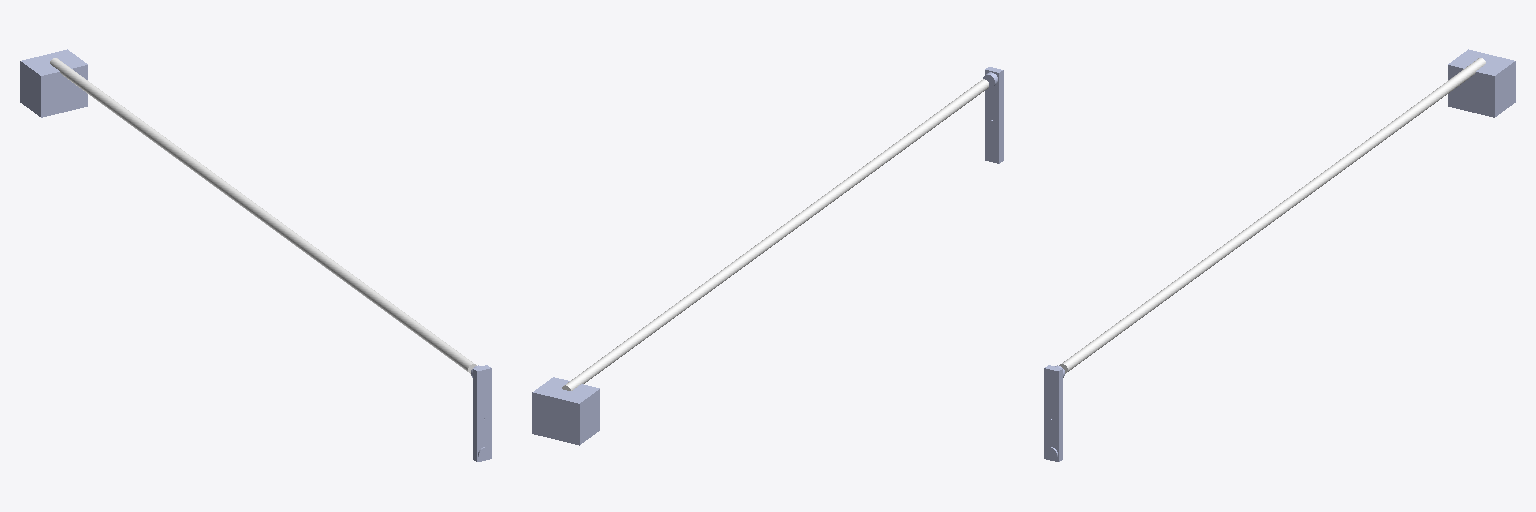
URDF robot description (monopod):
<?xml version="1.0" encoding="utf-8"?>
<!-- This URDF was automatically created by SolidWorks to URDF Exporter! Originally created by [author] ([email redacted])
     Commit Version: 1.6.0-1-g15f4949  Build Version: 1.6.7594.29634
     For more information, please see http://wiki.ros.org/sw_urdf_exporter -->
<robot name="monopod">
  <link name="world" />

<!-- Central pivot link -->

  <link name="central_pivot_link">
    <inertial>
      <origin
        xyz="0 0 80E-3"
        rpy="0 0 0" />
      <mass
        value="2.424" />
      <inertia
        ixx="20310.796E-6"
        ixy="-2.157E-6"
        ixz="-67.637E-6"
        iyy="21642.88E-6"
        iyz="-19.042E-6"
        izz="8571.224E-6" />
    </inertial>
    <visual>
      <origin
        xyz="0 0 0"
        rpy="0 0 0" />
      <geometry>
        <mesh
          filename="package://monopod/meshes/central_pivot.STL" />
      </geometry>
      <material
        name="">
        <color
          rgba="0.792156862745098 0.819607843137255 0.933333333333333 1" />
      </material>
    </visual>
  </link>

<!-- Connect link to world. rotates in yaw -->

  <joint name="planarizer_yaw_joint" type="continuous">
      <origin
        xyz="0 0 0.11"
        rpy="0 3.14159265359 0" />
     <parent link="world"/>
     <child link="central_pivot_link"/>
     <axis xyz="0 0 1" />
     <dynamics
       damping="0.01"
       friction="0.001" />
  </joint>

  <!-- Boom link -->

  <link name="boom_link">
    <inertial>
      <origin xyz="0 -1.0 0" rpy="0 0 0" />
    <mass value="0.12458" />
    <inertia
      ixx="0.023361"
      ixy="0"
      ixz="4.0264E-18"
      iyy="3.5039E-06"
      iyz="-2.189E-18"
      izz="0.023361" />
    </inertial>
    <visual>
      <origin xyz="0 0 0" rpy="0 0 0" />
      <geometry>
        <mesh filename="package://monopod/meshes/boom.STL" />
      </geometry>
      <material name="">
        <color rgba="1 1 1 1" />
      </material>
    </visual>
    <collision>
      <origin xyz="0 0 0" rpy="0 0 0" />
      <geometry>
        <mesh filename="package://monopod/meshes/boom.STL" />
      </geometry>
    </collision>
  </link>

<!-- Boom pitch joint -->

  <joint name="planarizer_pitch_joint" type="continuous">
    <origin xyz="0 0 0" rpy="0 0 0"/>
    <parent link="central_pivot_link" />
    <child link="boom_link" />
    <axis xyz="1 0 0" />
    <dynamics damping="0.01" friction="0.001" />
  </joint>


  <link name="hip_link">
    <inertial>
      <origin
        xyz="-2.016E-3 26.789E-3 18.092E-3"
        rpy="0 0 0" />
      <mass value="0.151" />
      <inertia
        ixx="308.333E-6"
        ixy="4.166E-6"
        ixz="-0.452E-6"
        iyy="222.631E-6"
        iyz="-35.508E-6"
        izz="110.366E-6" />
    </inertial>
    <visual>
      <origin xyz="0 0 0" rpy="0 0 0" />
      <geometry>
        <mesh
          filename="package://monopod/meshes/hip.STL" />
      </geometry>
      <material name="">
        <color rgba="0.792156862745098 0.819607843137255 0.933333333333333 1" />
      </material>
    </visual>
    <collision>
      <origin xyz="0 0 0" rpy="0 0 0" />
      <geometry>
        <mesh filename="package://monopod/meshes/hip.STL" />
      </geometry>
    </collision>
  </link>

<!-- Hip free joint -->

  <joint name="boom_connector_joint" type="continuous">
    <origin xyz="0 -2.01 0" rpy="-1.57 0 -1.57" />
    <parent
      link="boom_link" />
    <child
      link="hip_link" />
    <axis
      xyz="1 0 0" />
    <dynamics
      damping="0.01"
      friction="0.001" />
  </joint>

<!-- Upper leg link -->

  <link name="upper_leg_link">
    <inertial>
      <origin
        xyz="-7.414E-3 -0.013E-3 112.131E-3"
        rpy="3.14159265359 0 0" />
      <!-- <origin
        xyz="-7.414E-3 -0.013E-3 87.869E-3"
        rpy="0 0 0" /> -->
      <mass
        value="0.176" />
      <inertia
        ixx="629.368E-6"
        ixy="-0.003E-6"
        ixz="56.169E-6"
        iyy="627.685E-6"
        iyz="0.082E-6"
        izz="38.329E-6" />
    </inertial>
    <visual>
      <origin
        xyz="0 0 0.2"
        rpy="3.14159265359 0 0" />
      <!-- <origin
        xyz="0 0 0"
        rpy="0 0 0" /> -->
      <geometry>
        <mesh filename="package://monopod/meshes/upper_leg.STL" />
      </geometry>
      <material name="">
        <color rgba="0.79216 0.81961 0.93333 1" />
      </material>
    </visual>
    <collision>
      <origin
        xyz="0 0 0.2"
        rpy="3.14159265359 0 0" />
      <!-- <origin
        xyz="0 0 0"
        rpy="0 0 0" /> -->
      <geometry>
        <mesh filename="package://monopod/meshes/upper_leg.STL" />
      </geometry>
    </collision>
  </link>

<!-- Actuated hip joint -->

  <joint
    name="hip_joint"
    type="revolute">
    <origin
      xyz="0.035 0 0"
      rpy="1.57 0 0" />
    <parent link="hip_link" />
    <child link="upper_leg_link" />
    <axis xyz="1 0 0" />
    <limit
      lower="-6.28"
      upper="6.28"
      effort="50"
      velocity="3.1415926535916" />
    <dynamics
      damping="0.01"
      friction="0.001" />
  </joint>

<!-- Lower leg link -->

  <link name="lower_leg_link">
    <inertial>
      <origin
        xyz="0.832E-3 0.048E-3 -94.965E-3"
        rpy="0 0 0" />
      <mass value="0.067" />
      <inertia
        ixx="324.934E-6"
        ixy="0.003E-6"
        ixz="-5.262E-6"
        iyy="324.437E-6"
        iyz="0.254E-6"
        izz="4.053E-6" />
    </inertial>
    <visual>
      <origin
        xyz="0 0 0"
        rpy="0 0 0" />
      <geometry>
        <mesh
          filename="package://monopod/meshes/lower_leg.STL" />
      </geometry>
      <material
        name="">
        <color rgba="0.79216 0.81961 0.93333 1" />
      </material>
    </visual>
    <collision>
      <origin
        xyz="0 0 0"
        rpy="0 0 0" />
      <geometry>
        <mesh
          filename="package://monopod/meshes/lower_leg.STL" />
      </geometry>
    </collision>
  </link>

<!-- Lower leg actuated joint -->

  <joint
    name="knee_joint"
    type="continuous">
    <!-- type="revolute"> -->
    <origin
      xyz="0.019 0 0.2"
      rpy="3.14159265359 0 0" />
    <parent link="upper_leg_link" />
    <child link="lower_leg_link" />
    <axis xyz="1 0 0" />
    <!-- <limit
      lower="-6.28"
      upper="6.28"
      effort="50"
      velocity="3.1415926535916" /> -->
    <dynamics
      damping="0.01"
      friction="0.001" />
  </joint>
</robot>

--- What the picture shows (computed from the rendered views, not written in the file) ---
The picture shows the robot from 3 angles, left to right: view 1: azimuth 30°, elevation 25°; view 2: azimuth 150°, elevation 25°; view 3: azimuth 330°, elevation 25°; orthographic projection.
Robot: monopod — 6 links, 5 joints (1 revolute, 4 continuous); root link world; default pose: every joint at zero.
Visible links, largest first — view 1: boom_link, central_pivot_link, upper_leg_link; view 2: boom_link, central_pivot_link, upper_leg_link; view 3: boom_link, central_pivot_link, upper_leg_link.
Link boxes in pixels (box(x1,y1,x2,y2)): boom_link: box(50, 58, 476, 373); central_pivot_link: box(20, 49, 87, 117); upper_leg_link: box(471, 365, 491, 461); boom_link: box(562, 79, 988, 390); central_pivot_link: box(532, 377, 599, 445); upper_leg_link: box(983, 67, 1003, 163); boom_link: box(1059, 58, 1485, 373); central_pivot_link: box(1448, 49, 1515, 117); upper_leg_link: box(1044, 365, 1064, 461).
Size in the robot's own frame: 0.13 by 2.11 by 0.24 metres.
3 mesh visuals loaded from 5 distinct referenced files (3 binary STL); not drawn: 2 (reference not matched to a file when rendering).